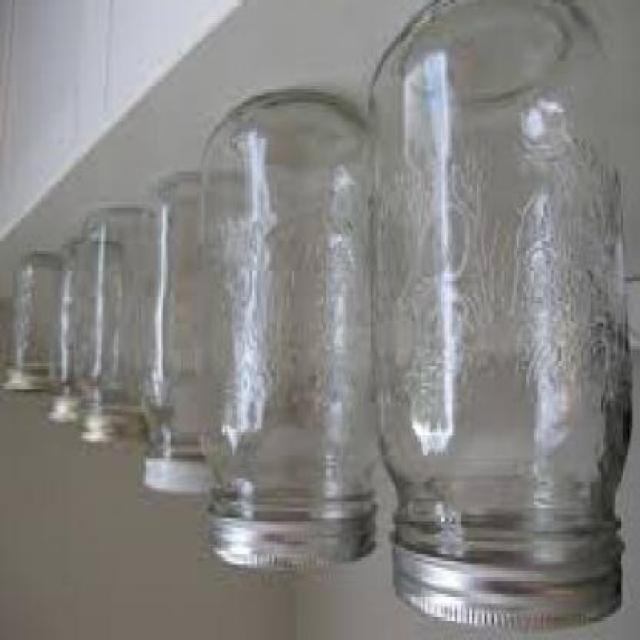GLASS: (368, 3, 630, 574), (195, 99, 378, 521), (131, 175, 212, 458), (72, 211, 153, 412), (44, 245, 116, 392), (2, 258, 58, 373)
METAL: (386, 541, 622, 633), (203, 515, 375, 574), (141, 458, 210, 498), (74, 418, 146, 452), (0, 372, 45, 403), (46, 398, 77, 429)
